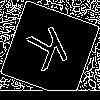K: (25, 25, 75, 81)
